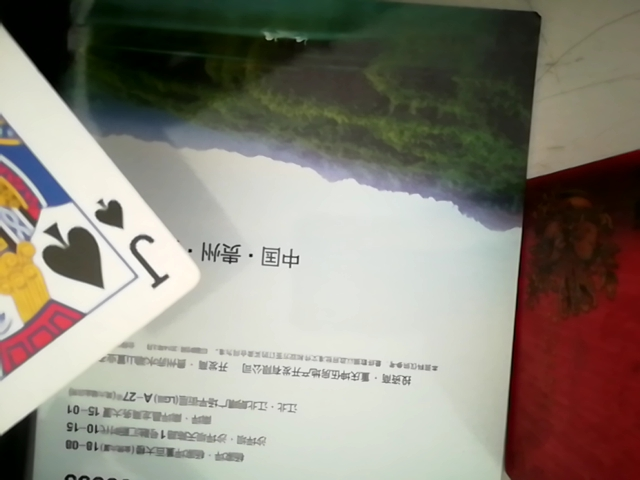ht j: (0, 6, 197, 464)
